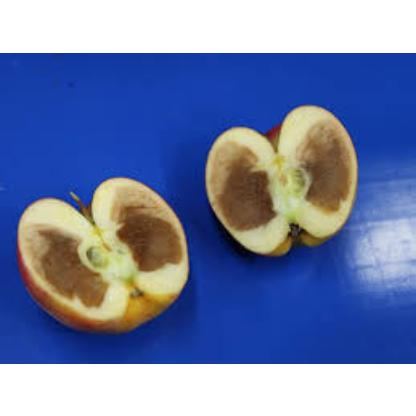apple: (17, 178, 187, 336), (207, 105, 359, 259)
